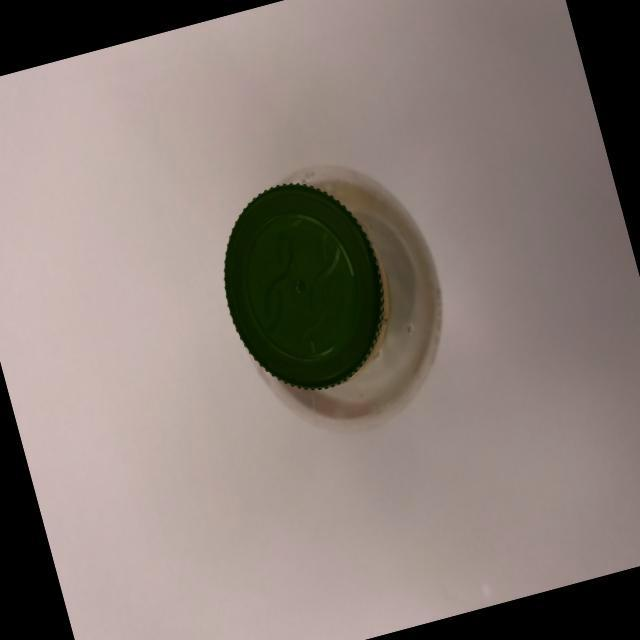plastic: (179, 120, 431, 423)
